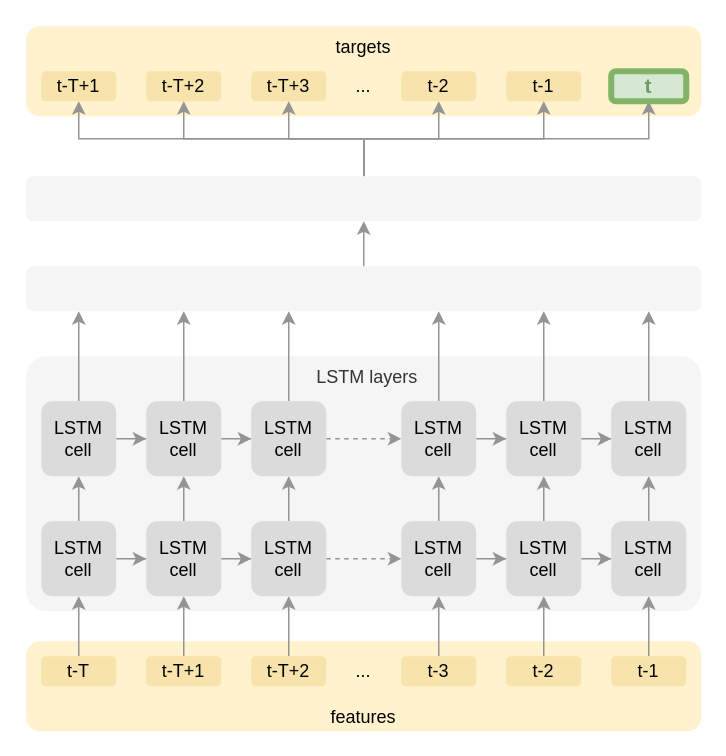
Image size: 726x756. Some labels were removed from this diagram. The centre of each missing label's shape, as x and y in pixels:
concatenation layer: pixel 363 288
linear layer: pixel 363 198
